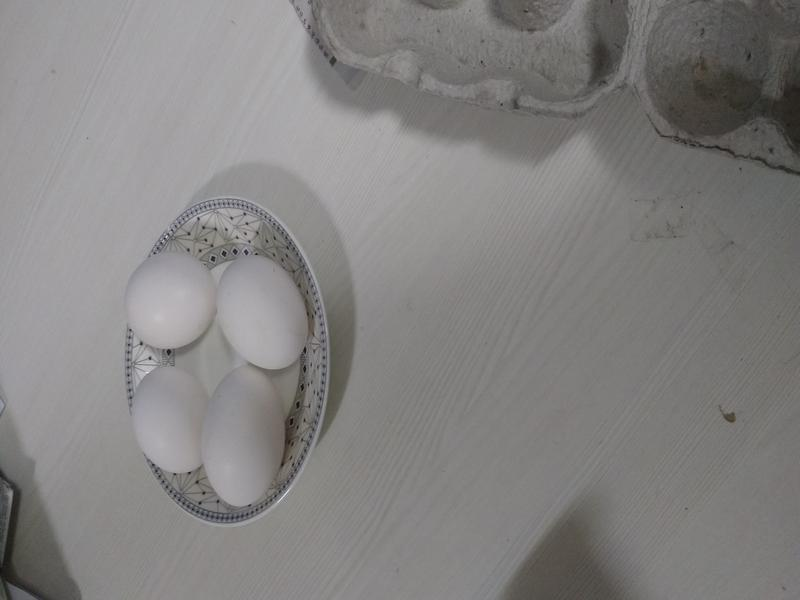egg: (130, 359, 215, 483)
